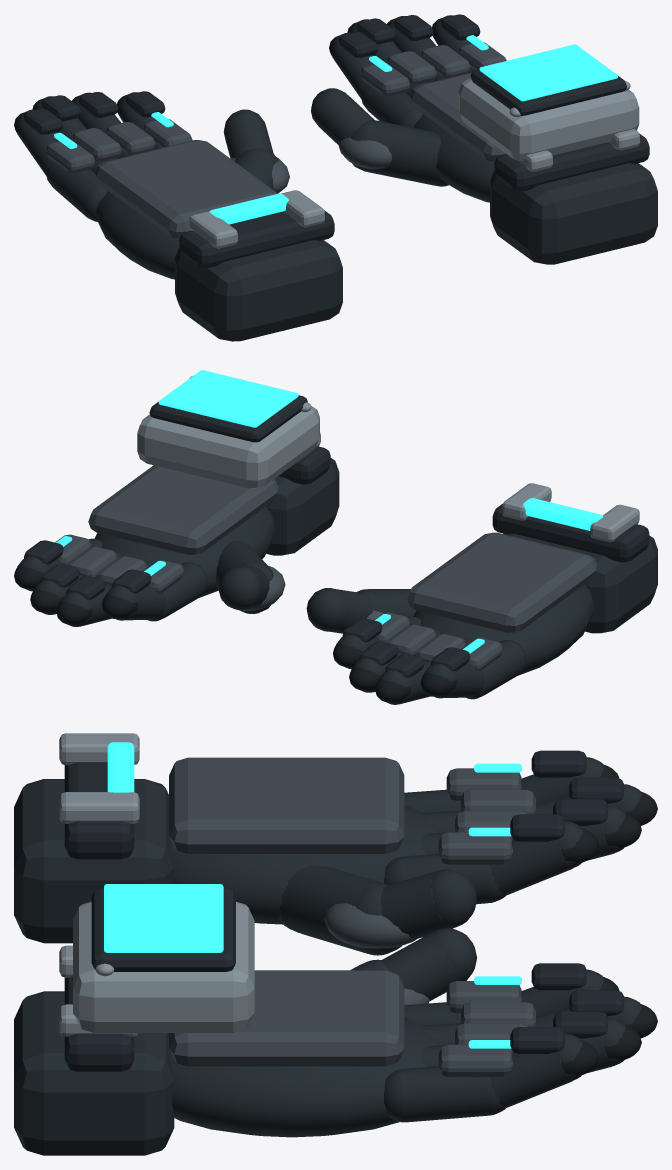
The model's file is hands.glb.
3 renders of one model, top to bottom at view 1: azimuth 30°, elevation 25°; view 2: azimuth 150°, elevation 25°; view 3: azimuth 270°, elevation 25°, orthographic. The views are drawn at different scales.
Parts seen in each view (by area): view 1: ST /wrist fabric cuff, ST /wrist fabric cuff.001, ST /segmented metacarpal armor, ST /ocular wrist computer, ST /Hand Display, ST /wrist armored strap, ST /tactical glove palm, ST /wrist armored strap.001, ST /glove thumb base.001, ST /segmented metacarpal armor.001, ST /tactical glove palm.001, ST /ocular computer gasket (+33 smaller); view 2: ST /segmented metacarpal armor, ST /segmented metacarpal armor.001, ST /ocular wrist computer, ST /tactical glove palm, ST /wrist fabric cuff, ST /Hand Display, ST /wrist fabric cuff.001, ST /tactical glove palm.001, ST /wrist armored strap, ST /ocular computer gasket, ST /glove thumb tip joint B.001, ST /left wrist status rail (+36 smaller); view 3: ST /segmented metacarpal armor, ST /wrist fabric cuff.001, ST /segmented metacarpal armor.001, ST /tactical glove palm.001, ST /wrist fabric cuff, ST /ocular wrist computer, ST /tactical glove palm, ST /Hand Display, ST /ocular computer gasket, ST /glove thumb base, ST /wrist armored strap, ST /glove finger proximal.007 (+39 smaller).
Part boxes in pixels (bbox=[...]): ST /wrist fabric cuff: bbox=[175, 240, 342, 341]; ST /wrist fabric cuff.001: bbox=[490, 163, 657, 264]; ST /segmented metacarpal armor: bbox=[95, 140, 277, 238]; ST /ocular wrist computer: bbox=[458, 78, 639, 160]; ST /Hand Display: bbox=[479, 44, 617, 101]; ST /wrist armored strap: bbox=[179, 210, 334, 268]; ST /tactical glove palm: bbox=[95, 191, 179, 279]; ST /wrist armored strap.001: bbox=[494, 133, 649, 191]; ST /glove thumb base.001: bbox=[366, 120, 440, 185]; ST /segmented metacarpal armor.001: bbox=[410, 72, 505, 161]; ST /tactical glove palm.001: bbox=[413, 114, 494, 202]; ST /ocular computer gasket: bbox=[470, 69, 626, 115]; ST /segmented metacarpal armor: bbox=[407, 532, 597, 632]; ST /segmented metacarpal armor.001: bbox=[88, 465, 278, 554]; ST /ocular wrist computer: bbox=[137, 406, 319, 488]; ST /tactical glove palm: bbox=[413, 584, 594, 675]; ST /wrist fabric cuff: bbox=[503, 533, 657, 633]; ST /Hand Display: bbox=[158, 370, 298, 427]; ST /wrist fabric cuff.001: bbox=[266, 458, 339, 555]; ST /tactical glove palm.001: bbox=[94, 507, 275, 597]; ST /wrist armored strap: bbox=[492, 503, 649, 562]; ST /ocular computer gasket: bbox=[149, 395, 307, 442]; ST /glove thumb tip joint B.001: bbox=[218, 566, 261, 609]; ST /left wrist status rail: bbox=[523, 498, 603, 530]; ST /segmented metacarpal armor: bbox=[169, 757, 404, 853]; ST /wrist fabric cuff.001: bbox=[14, 991, 174, 1155]; ST /segmented metacarpal armor.001: bbox=[169, 970, 404, 1066]; ST /tactical glove palm.001: bbox=[167, 1017, 442, 1137]; ST /wrist fabric cuff: bbox=[14, 779, 174, 943]; ST /ocular wrist computer: bbox=[73, 901, 254, 1032]; ST /tactical glove palm: bbox=[167, 804, 442, 924]; ST /Hand Display: bbox=[104, 884, 223, 952]; ST /ocular computer gasket: bbox=[91, 888, 235, 971]; ST /glove thumb base: bbox=[283, 865, 383, 953]; ST /wrist armored strap: bbox=[64, 762, 134, 859]; ST /glove finger proximal.007: bbox=[404, 1066, 487, 1121].
Bounding box in the file's own units: 0.68 × 0.2155 × 0.602.
